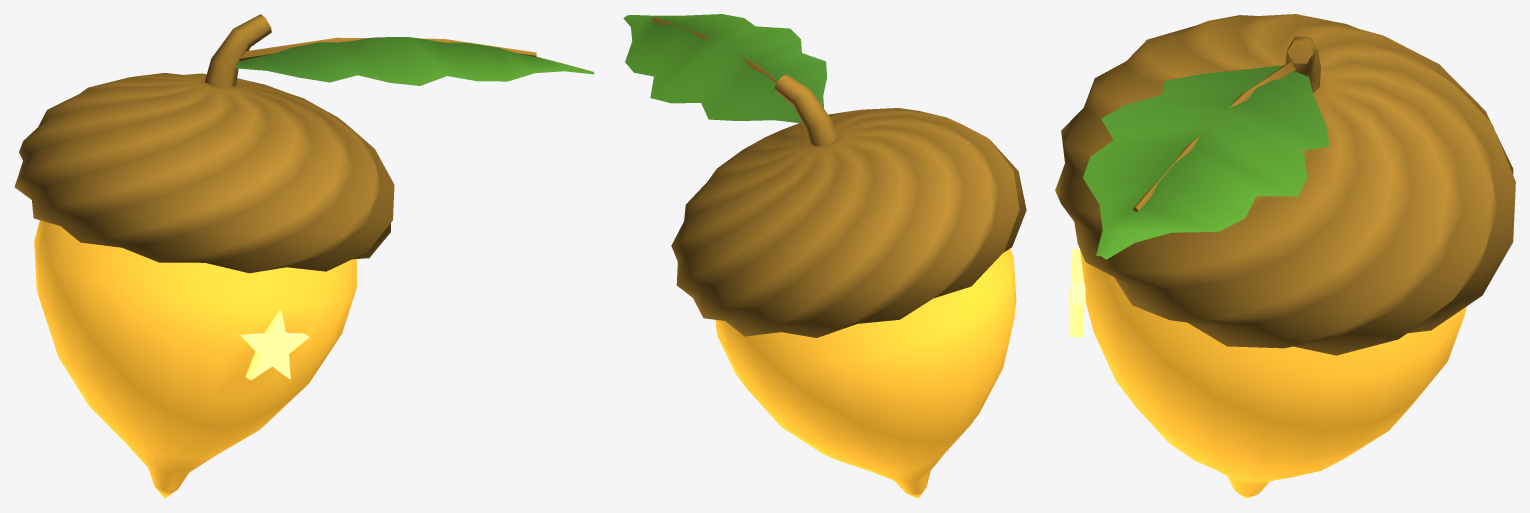
Rendered from golden-acorn.glb.
3 views of the same model, side by side, from view 1: azimuth 30°, elevation 25°; view 2: azimuth 150°, elevation 25°; view 3: azimuth 270°, elevation 25° (orthographic). The views are drawn at different scales.
Parts seen in each view (by area): view 1: Golden acorn Old gold, Golden acorn Gold, Golden acorn Oak leaf, Golden acorn Star gold; view 2: Golden acorn Old gold, Golden acorn Gold, Golden acorn Oak leaf; view 3: Golden acorn Old gold, Golden acorn Gold, Golden acorn Oak leaf, Golden acorn Star gold.
Part boxes in pixels (x1,y1,x2,y2): Golden acorn Old gold: (14,14,536,273); Golden acorn Gold: (34,220,356,498); Golden acorn Oak leaf: (235,37,594,85); Golden acorn Star gold: (240,310,309,380); Golden acorn Old gold: (652,17,1026,337); Golden acorn Gold: (715,249,1016,498); Golden acorn Oak leaf: (623,14,826,123); Golden acorn Old gold: (1055,14,1515,355); Golden acorn Gold: (1080,250,1466,498); Golden acorn Oak leaf: (1083,65,1329,259); Golden acorn Star gold: (1069,249,1085,337).
Bounding box in the file's own units: 0.1592 × 0.1389 × 0.1095.
